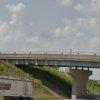Bridge: (8, 38, 100, 88)
